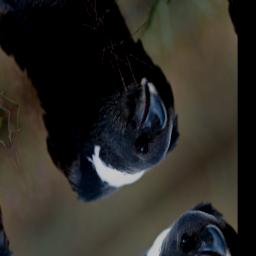Crow: (27, 12, 194, 227)
